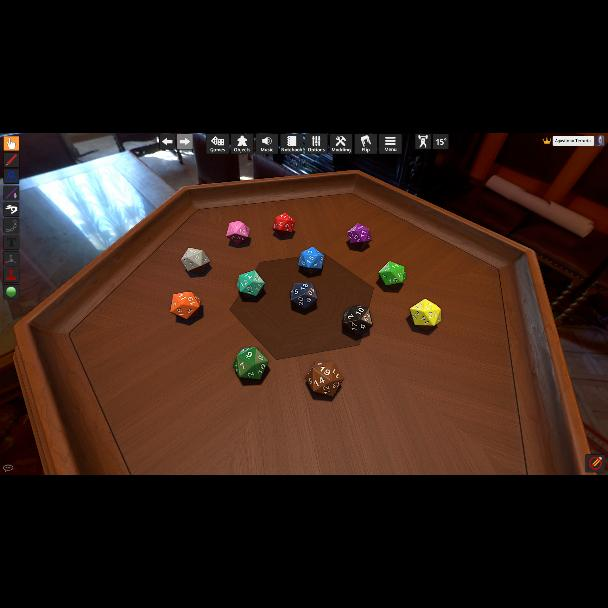d20: (306, 360, 342, 397), (233, 348, 269, 380), (409, 299, 443, 331), (342, 306, 372, 334), (171, 291, 201, 319), (237, 270, 265, 298), (378, 261, 408, 287), (298, 247, 324, 277), (180, 248, 210, 272), (290, 283, 316, 309), (227, 220, 250, 244), (348, 224, 370, 246), (273, 212, 295, 234), (306, 363, 320, 390)
